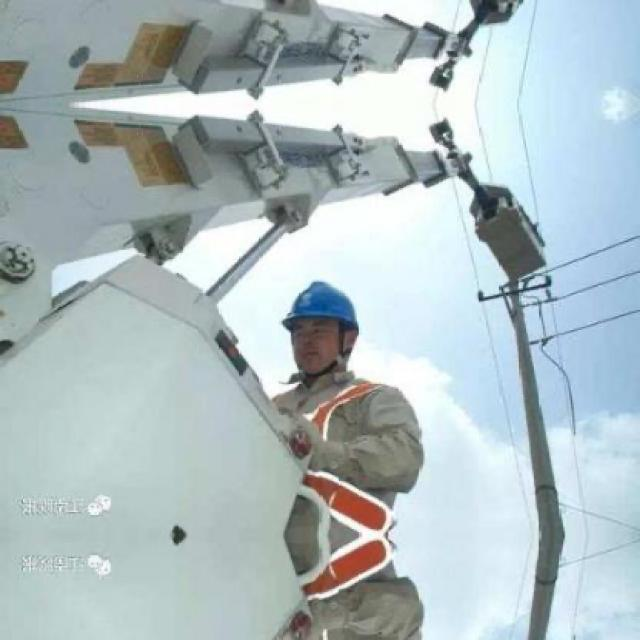helmet: (272, 268, 370, 381)
